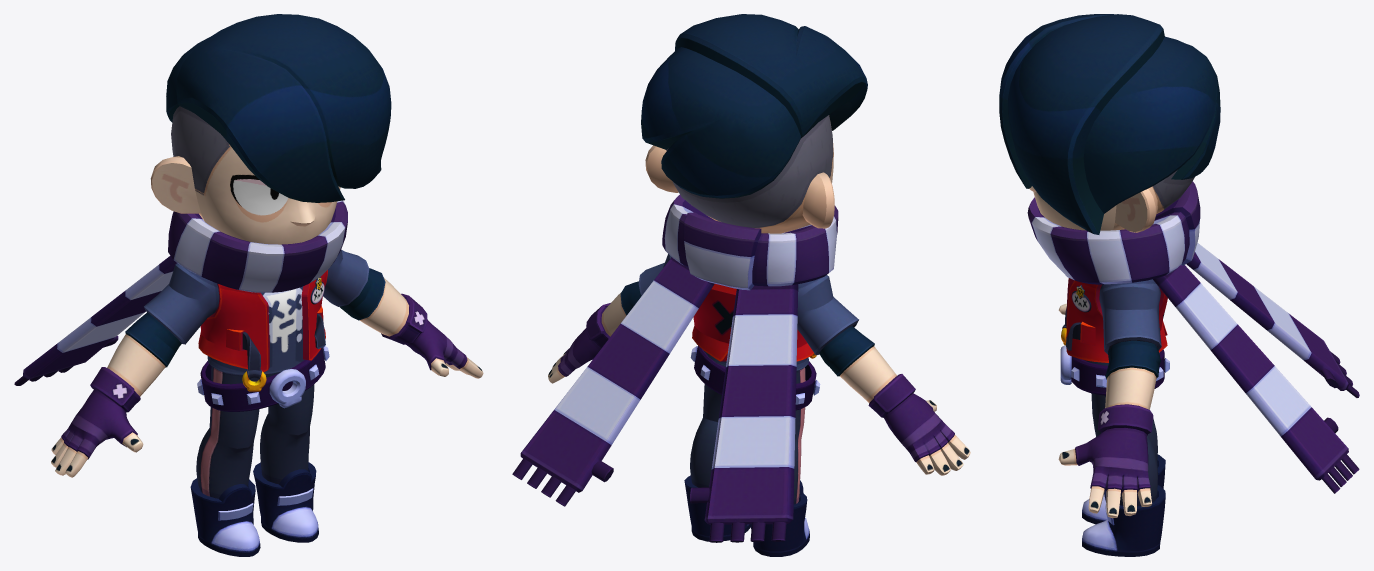
The picture shows the model from 3 angles, left to right: view 1: azimuth 30°, elevation 25°; view 2: azimuth 150°, elevation 25°; view 3: azimuth 270°, elevation 25°; orthographic projection. The views are drawn at different scales.
Visible parts, largest first — view 1: scarf_GEO; view 2: scarf_GEO; view 3: scarf_GEO.
Boxes of the visible parts, <box> form: scarf_GEO: <box>14,14,483,556</box>; scarf_GEO: <box>512,14,970,556</box>; scarf_GEO: <box>999,14,1359,556</box>.
Bounding box in the file's own units: 10.54 × 12.3 × 7.87.
Materials: 2 (2 with a texture image).
